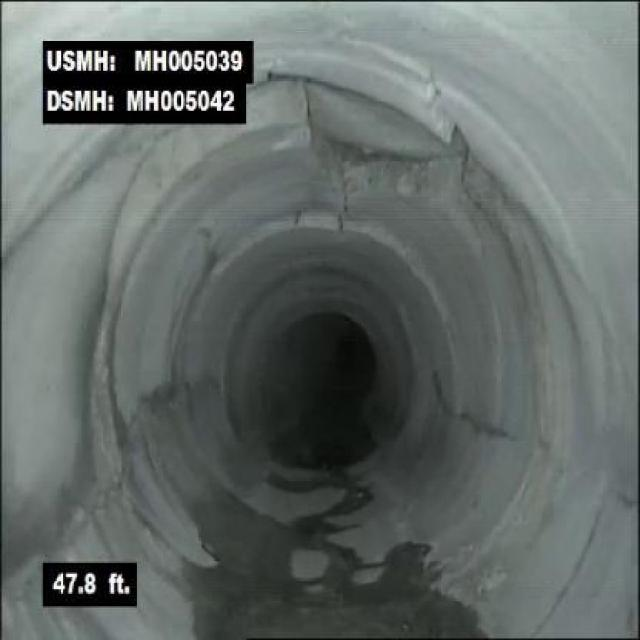Buckling: (258, 52, 382, 231), (384, 43, 474, 205)
Crack: (48, 477, 126, 561), (436, 368, 518, 446), (608, 483, 635, 515)
